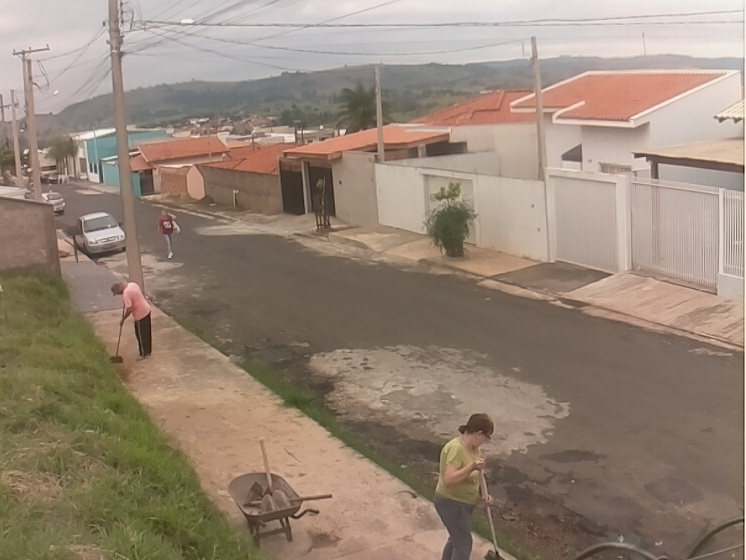person: (432, 412, 495, 560), (111, 282, 154, 360), (159, 210, 178, 260)
